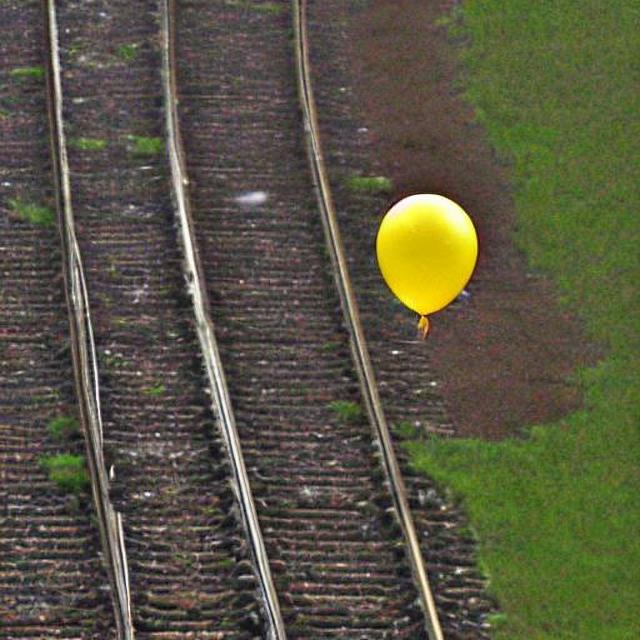balloon: (370, 188, 477, 332)
